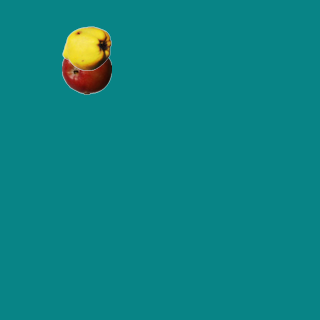Apple Braeburn: (61, 44, 111, 94)
Quince: (61, 23, 111, 73)
